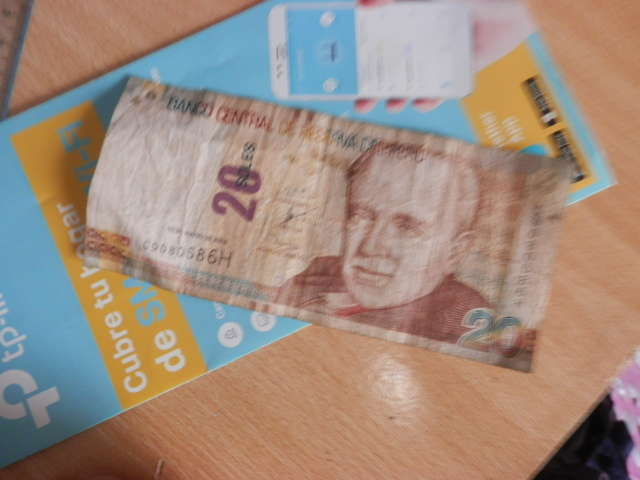B20: (78, 74, 557, 382)
